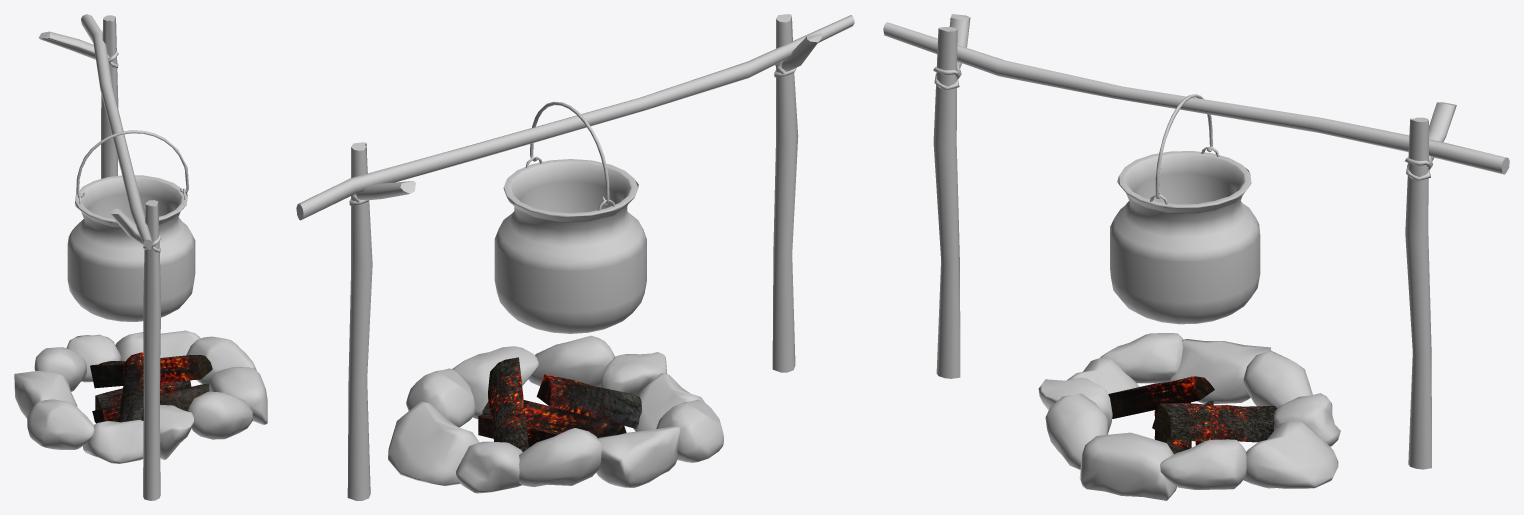
The model's file is SM_Fireplace2.fbx.
The picture shows the model from 3 angles, left to right: view 1: azimuth 30°, elevation 25°; view 2: azimuth 150°, elevation 25°; view 3: azimuth 270°, elevation 25°; orthographic projection. The views are drawn at different scales.
Visible parts, largest first — view 1: SM_Fireplace2_LOD0; view 2: SM_Fireplace2_LOD0; view 3: SM_Fireplace2_LOD0.
Part boxes in pixels (x1,y1,x2,y2): SM_Fireplace2_LOD0: (14, 14, 267, 500); SM_Fireplace2_LOD0: (296, 14, 854, 500); SM_Fireplace2_LOD0: (883, 14, 1509, 500).
Size of the model in its own units: 140 by 271 by 175.
4 materials, 1 textured.
